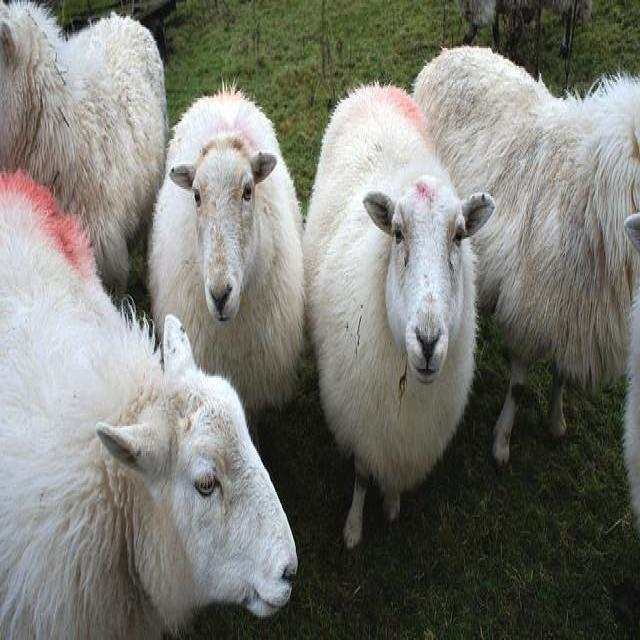Sheep: (0, 167, 299, 633), (411, 46, 638, 467), (305, 86, 496, 549), (148, 95, 305, 458), (0, 0, 168, 301)
